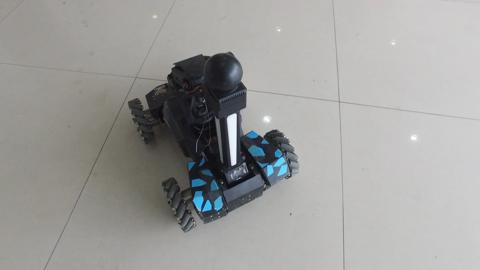chariot: (114, 52, 299, 238)
